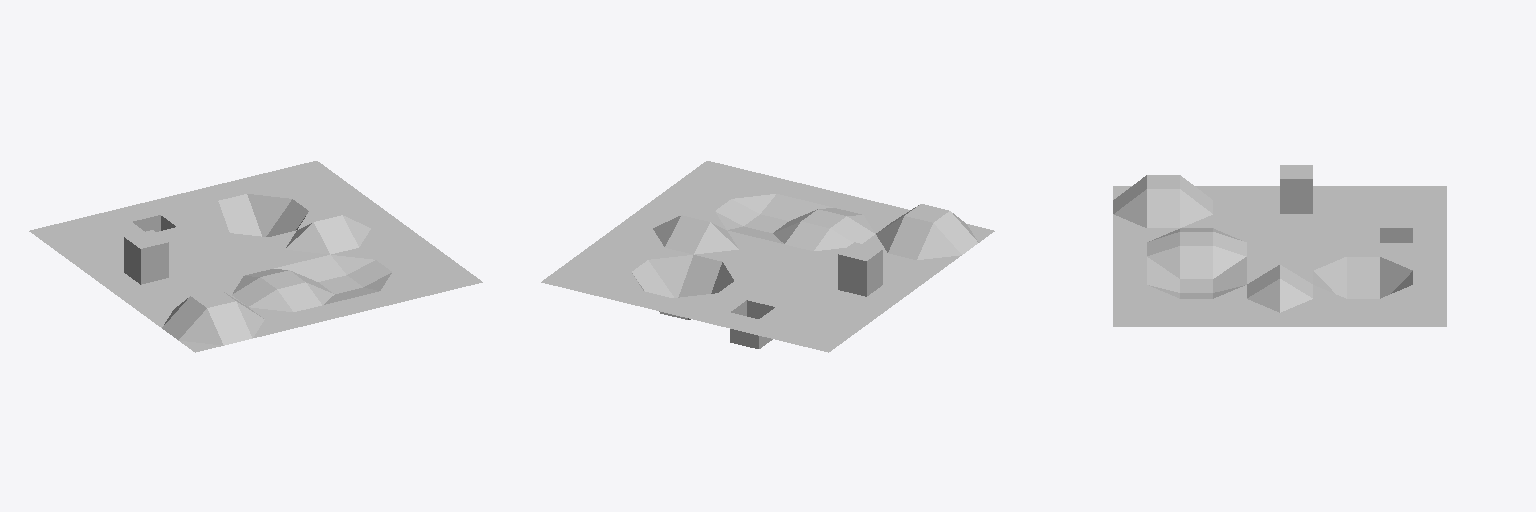
The model's file is field.obj.
3 views of the same model, side by side, from view 1: azimuth 30°, elevation 25°; view 2: azimuth 150°, elevation 25°; view 3: azimuth 270°, elevation 25° (orthographic).
Parts seen in each view (by area): view 1: グリッド_グリッド.001; view 2: グリッド_グリッド.001; view 3: グリッド_グリッド.001.
Part boxes in pixels (left/top/right/bottom): グリッド_グリッド.001: left=29, top=161, right=482, bottom=352; グリッド_グリッド.001: left=541, top=161, right=994, bottom=352; グリッド_グリッド.001: left=1113, top=165, right=1446, bottom=326.
Size of the model in its own units: 10 by 2.32 by 10.